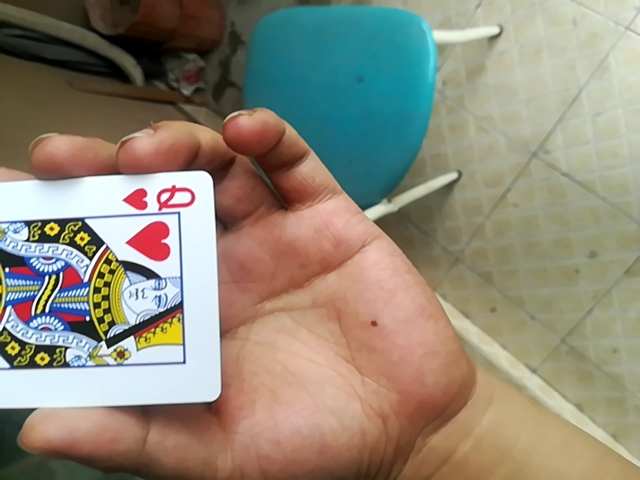hx q: (0, 173, 222, 412)
